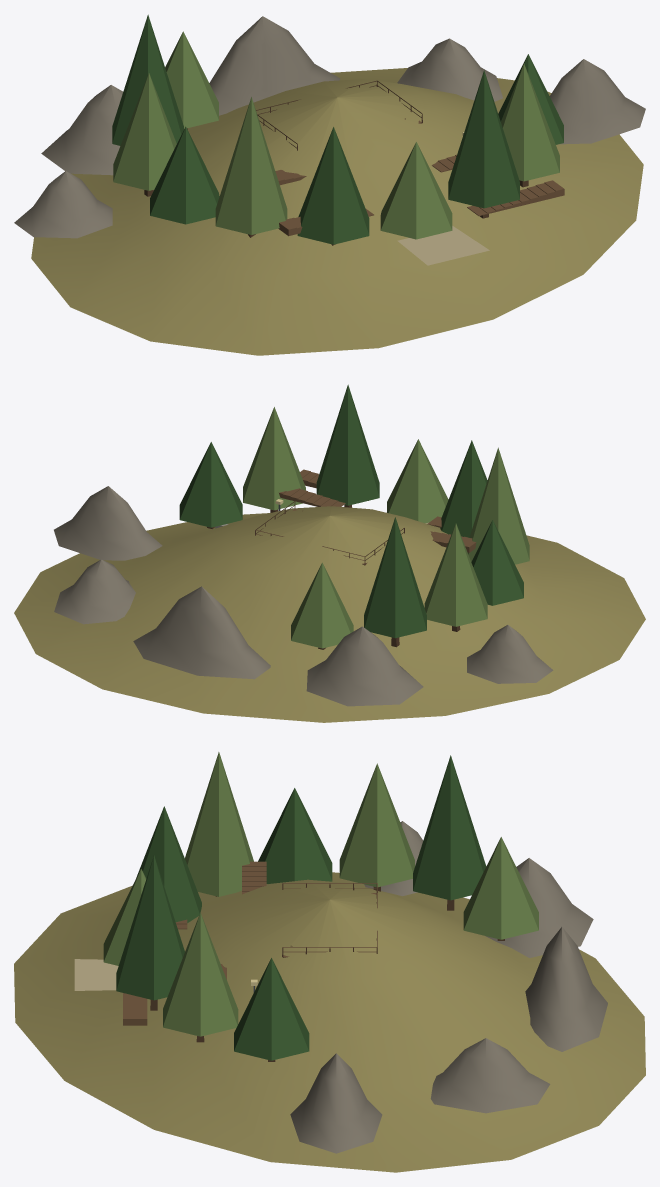
File: desktop.glb
3 renders of one model, top to bottom at view 1: azimuth 30°, elevation 25°; view 2: azimuth 150°, elevation 25°; view 3: azimuth 270°, elevation 25°, orthographic. The views are drawn at different scales.
Parts seen in each view (by area): view 1: lm.lands-end-lookout; view 2: lm.lands-end-lookout; view 3: lm.lands-end-lookout.
Boxes of the visible parts, <box> form: lm.lands-end-lookout: <box>14,14,645,355</box>; lm.lands-end-lookout: <box>14,384,645,722</box>; lm.lands-end-lookout: <box>14,752,645,1172</box>.
Size of the model in its own units: 78.29 by 23 by 66.84.
